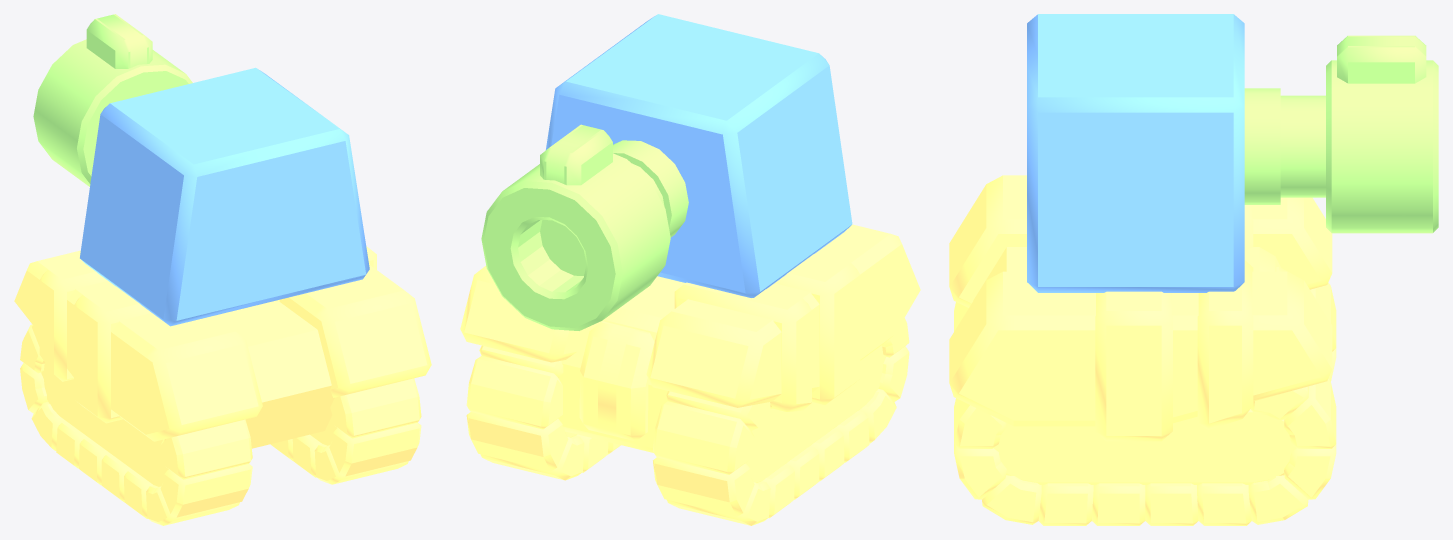
File: Tanks2.fbx
The picture shows the model from 3 angles, left to right: view 1: azimuth 30°, elevation 25°; view 2: azimuth 150°, elevation 25°; view 3: azimuth 270°, elevation 25°; orthographic projection. The views are drawn at different scales.
Visible parts, largest first — view 1: Cube.008; view 2: Cube.008; view 3: Cube.008.
Boxes of the visible parts, x1=… form: Cube.008: x1=14, y1=14, x2=431, y2=525; Cube.008: x1=460, y1=14, x2=920, y2=525; Cube.008: x1=949, y1=14, x2=1438, y2=525.
Size of the model in its own units: 1.68 by 2.06 by 2.19.
